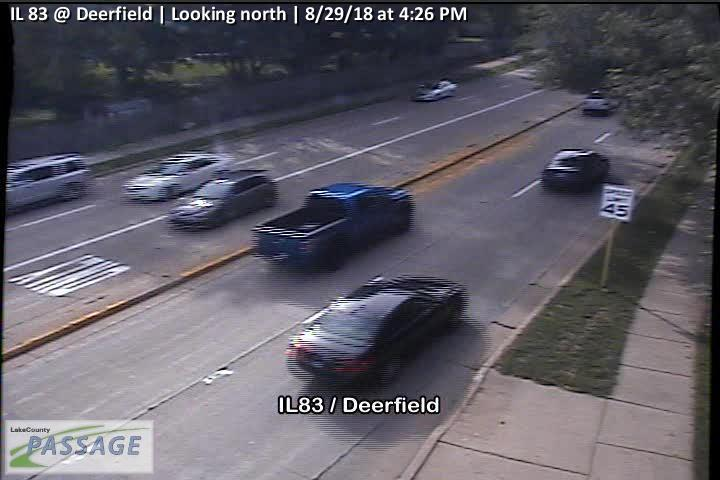SUV: (165, 169, 277, 232), (4, 152, 92, 213)
Sedan: (282, 273, 469, 388), (119, 154, 233, 203), (540, 150, 611, 195), (412, 80, 459, 102)
Truck: (255, 183, 414, 275)
